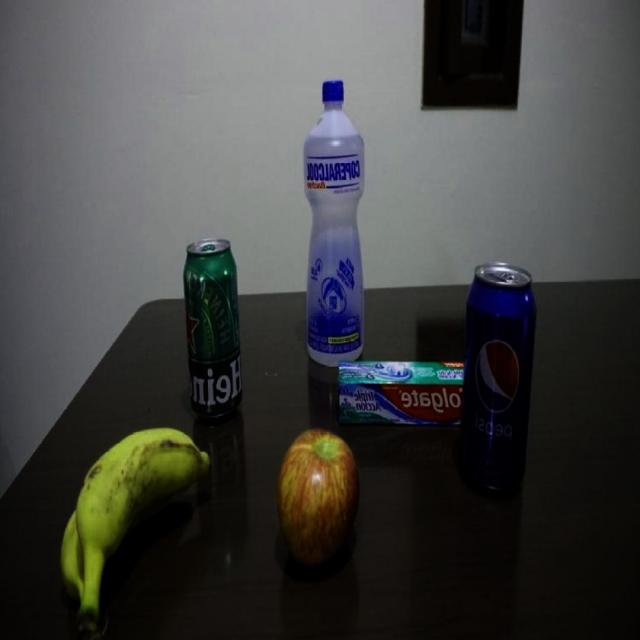AlcoholBottle: (302, 78, 369, 366)
Apple: (276, 429, 360, 574)
Banana: (52, 426, 215, 640)
BeerCan: (183, 237, 244, 425)
SodaCan: (457, 259, 537, 496)
Toothpaste: (336, 359, 468, 428)
